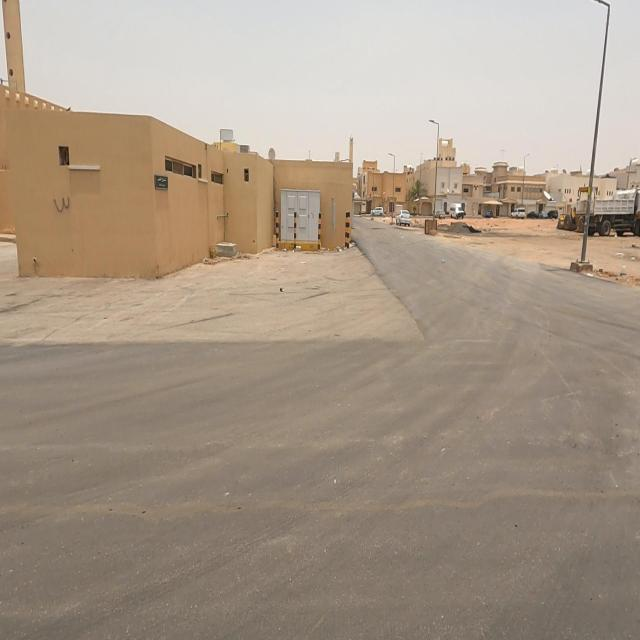Graffiti: (53, 194, 74, 215)
